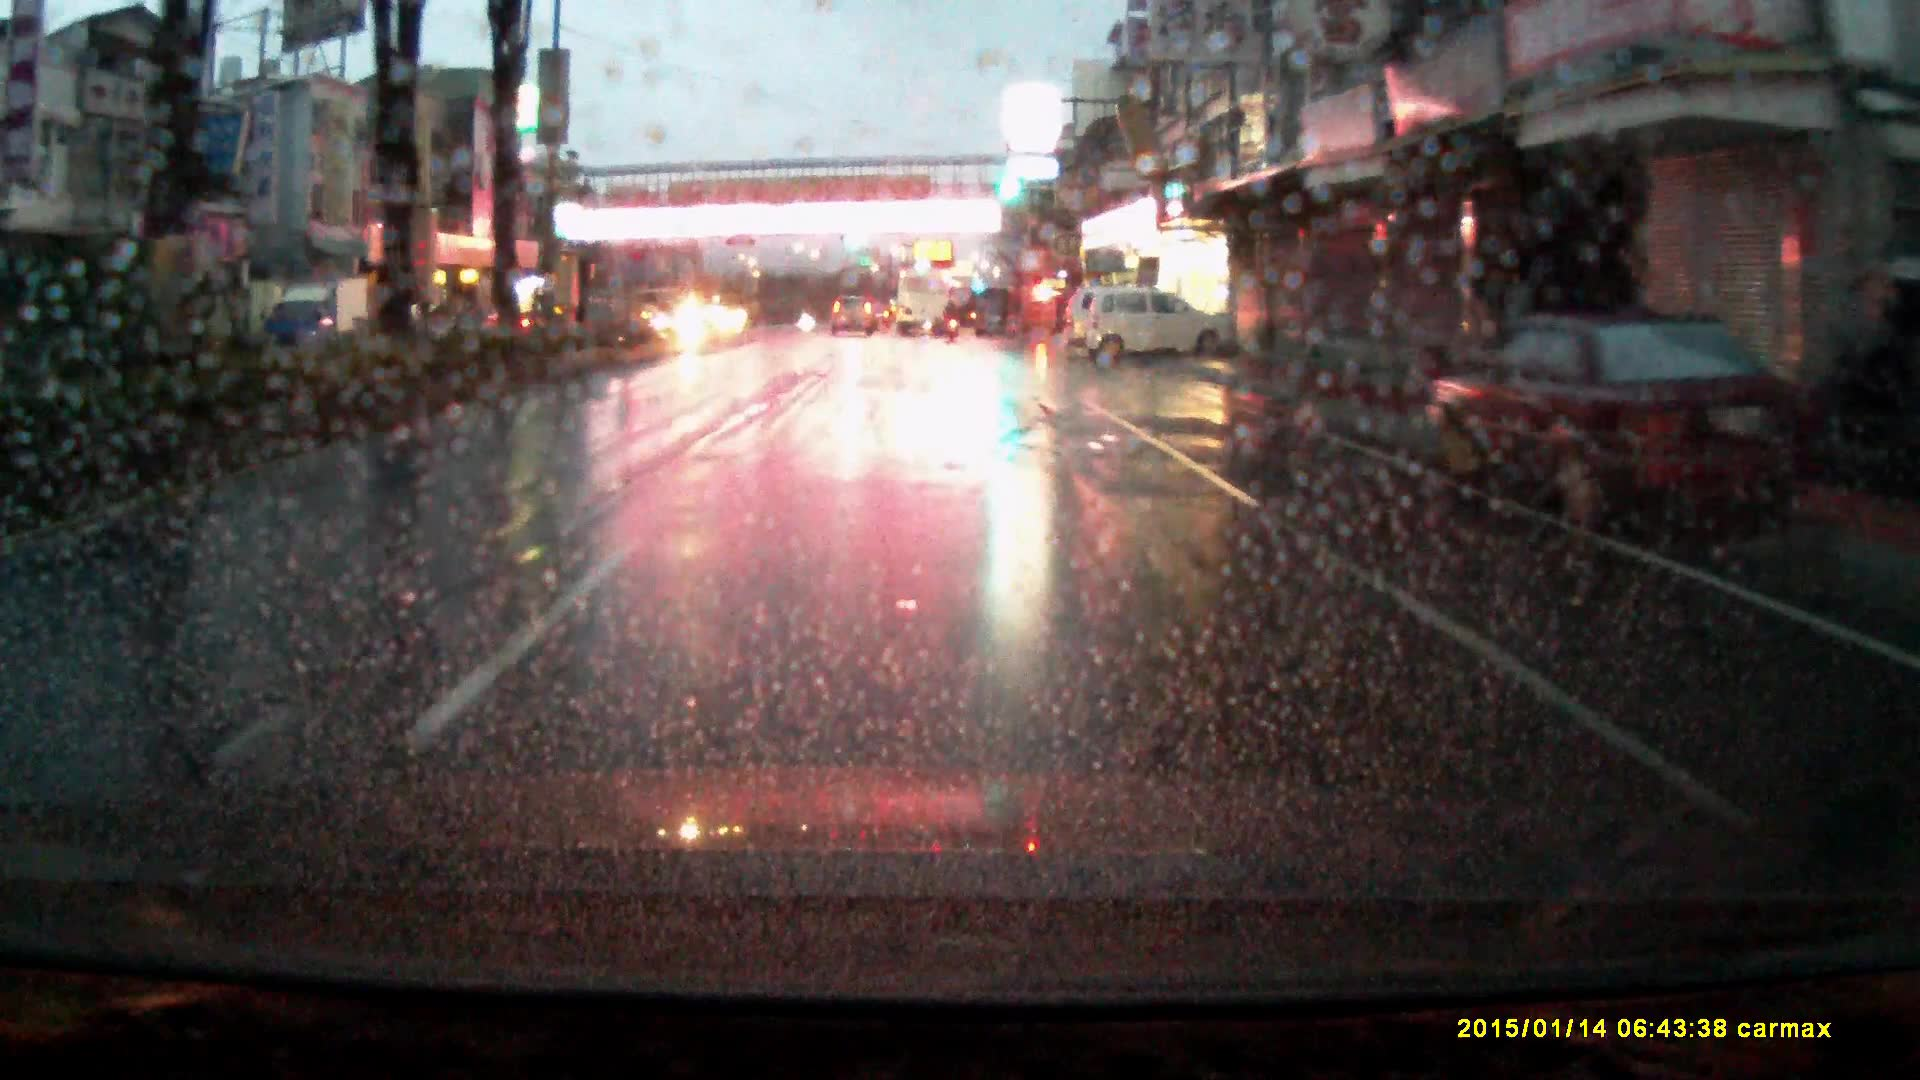rider: (943, 298, 963, 346)
vehicle: (1427, 319, 1833, 552), (1082, 293, 1239, 376), (266, 286, 366, 361), (1063, 293, 1134, 355), (897, 278, 949, 345), (831, 298, 878, 342)
